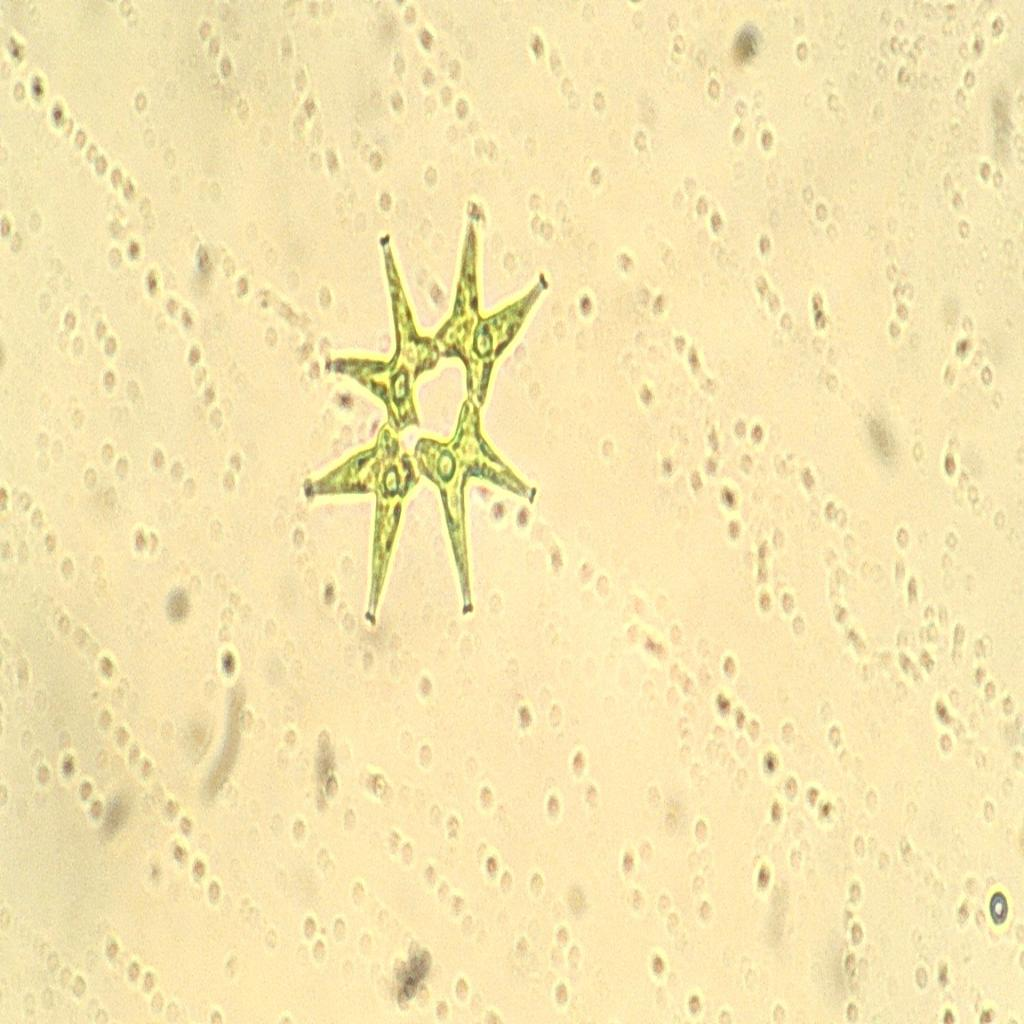Pediastrum_75FO: (297, 186, 561, 662)
